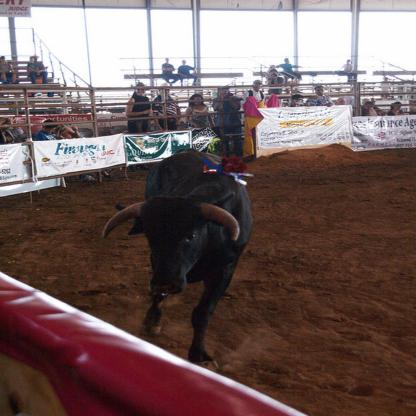face: (317, 88, 325, 97), (2, 121, 10, 130), (136, 89, 146, 96), (47, 128, 57, 135), (224, 90, 232, 98), (255, 81, 262, 90), (161, 89, 170, 96), (195, 98, 202, 106), (339, 99, 346, 106), (271, 73, 279, 79), (295, 99, 303, 104), (368, 105, 374, 111), (397, 105, 403, 111), (371, 100, 376, 105), (408, 86, 412, 91), (166, 59, 170, 63), (35, 59, 39, 63), (2, 59, 6, 63), (400, 88, 403, 92), (287, 60, 290, 64), (183, 62, 187, 65), (414, 90, 416, 95), (385, 79, 388, 82), (348, 61, 351, 63)
